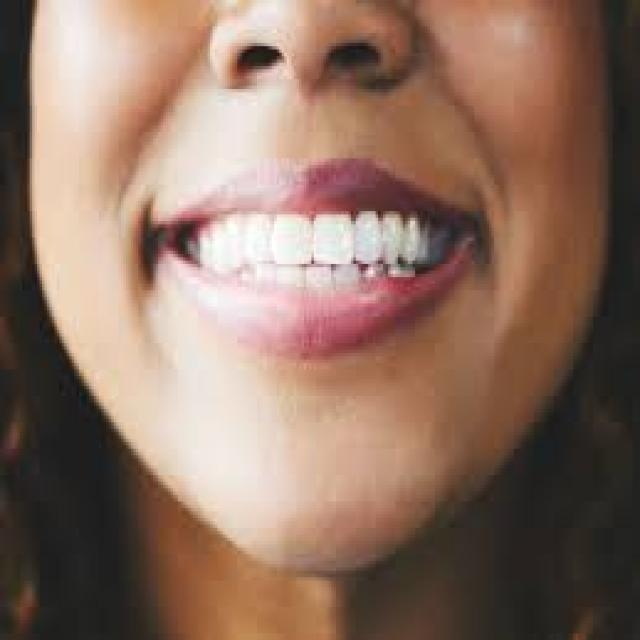tooth: (208, 218, 245, 280), (314, 208, 351, 264), (274, 218, 312, 260), (356, 211, 378, 261), (380, 208, 400, 260), (245, 215, 269, 258), (180, 234, 208, 264), (405, 215, 420, 258), (247, 264, 279, 280), (282, 264, 304, 287), (388, 264, 415, 280), (309, 267, 331, 284), (336, 264, 353, 280), (358, 267, 383, 277)
